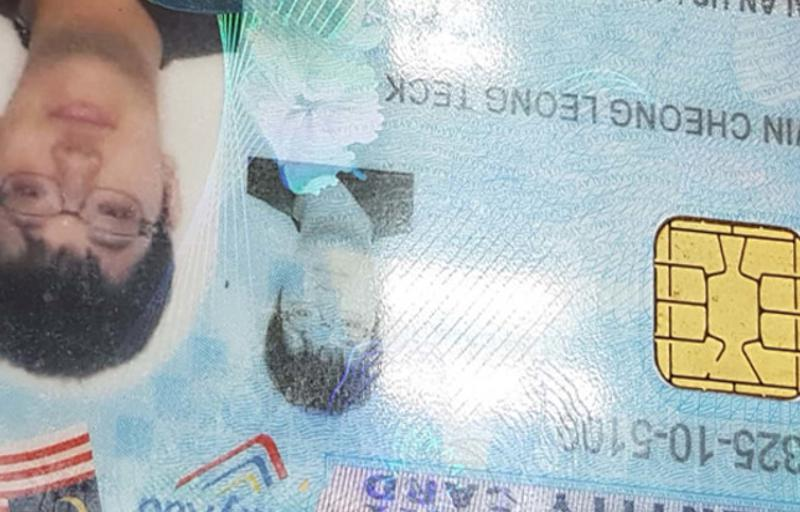hologramB: (251, 1, 376, 156)
